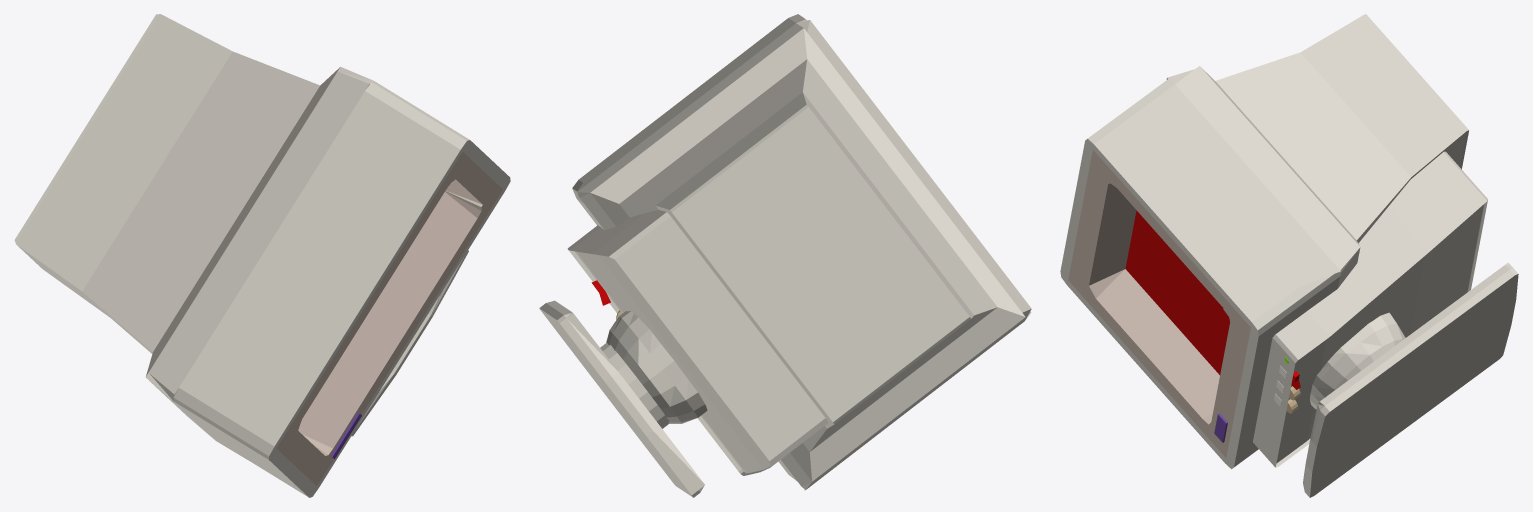
The model's file is MONITOR.glb.
3 views of the same model, side by side, from view 1: azimuth 30°, elevation 25°; view 2: azimuth 150°, elevation 25°; view 3: azimuth 270°, elevation 25° (orthographic). The views are drawn at different scales.
Parts seen in each view (by area): view 1: _0; view 2: _0; view 3: _0.
Boxes of the visible parts, box(x1,y1,x2,y2) form: _0: box(14, 14, 510, 497); _0: box(539, 14, 1031, 497); _0: box(1060, 14, 1518, 497).
Bounding box in the file's own units: 1.61 × 1.55 × 1.54.
